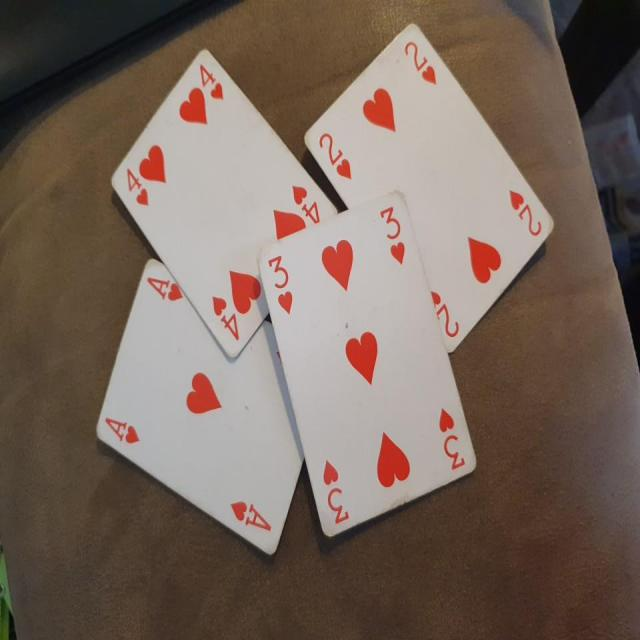2 Hearts: (298, 23, 560, 360)
3 Hearts: (257, 185, 486, 548)
4 Hearts: (107, 47, 344, 360)
A Hearts: (90, 258, 331, 564)
